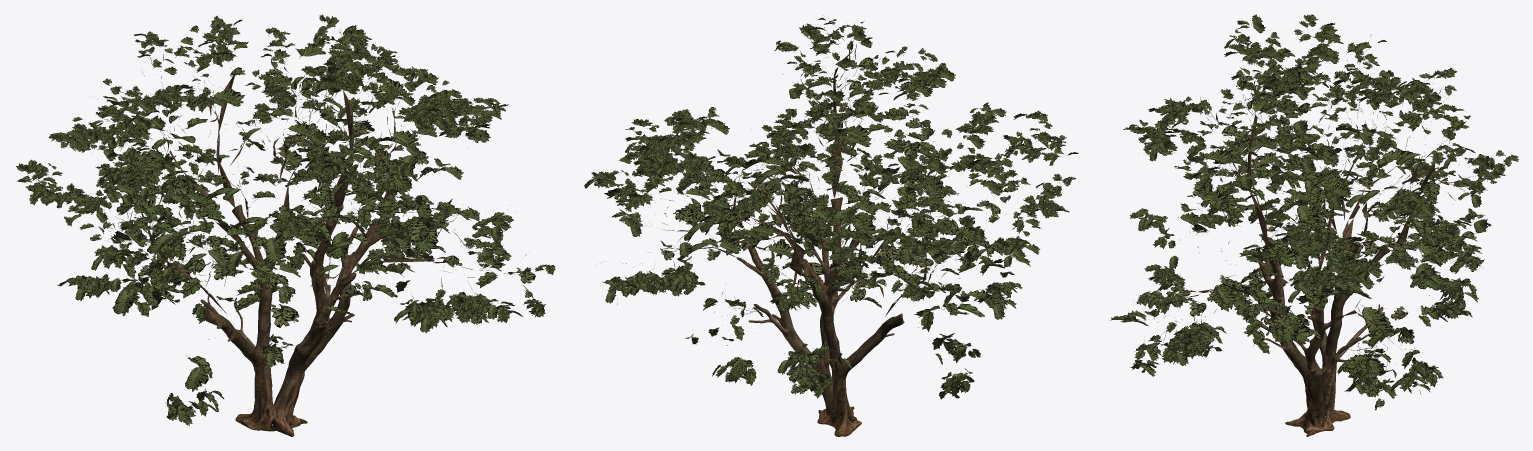
The model's file is broadleaf_tree_near.glb.
3 views of the same model, side by side, from view 1: azimuth 30°, elevation 25°; view 2: azimuth 150°, elevation 25°; view 3: azimuth 270°, elevation 25° (orthographic). The views are drawn at different scales.
Visible parts, largest first — view 1: jacaranda_tree_LOD0, jacaranda_tree_LOD0.002, jacaranda_tree_LOD0.001; view 2: jacaranda_tree_LOD0, jacaranda_tree_LOD0.002, jacaranda_tree_LOD0.001; view 3: jacaranda_tree_LOD0, jacaranda_tree_LOD0.002, jacaranda_tree_LOD0.001.
Boxes of the visible parts, box(x1,y1,x2,y2) form: jacaranda_tree_LOD0: box(16, 14, 555, 425); jacaranda_tree_LOD0.002: box(200, 204, 385, 436); jacaranda_tree_LOD0.001: box(42, 21, 542, 404); jacaranda_tree_LOD0: box(584, 18, 1078, 399); jacaranda_tree_LOD0.002: box(737, 197, 904, 436); jacaranda_tree_LOD0.001: box(595, 15, 1060, 387); jacaranda_tree_LOD0: box(1110, 14, 1518, 409); jacaranda_tree_LOD0.002: box(1253, 237, 1391, 436); jacaranda_tree_LOD0.001: box(1129, 34, 1503, 399).
Size of the model in its own units: 24.06 by 19.5 by 19.22.
3 materials, 3 textured.
